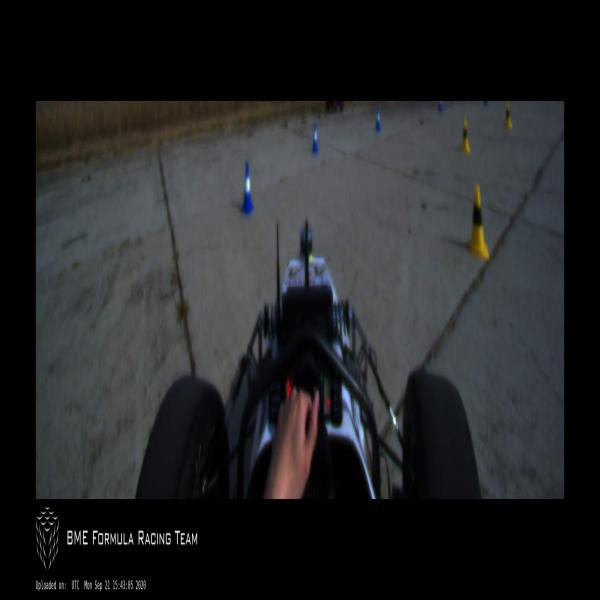blue_cone: (241, 161, 254, 215), (311, 122, 319, 154), (375, 107, 381, 132), (438, 101, 443, 112)
yellow_cone: (468, 183, 489, 261), (461, 118, 471, 153), (505, 102, 513, 130)
